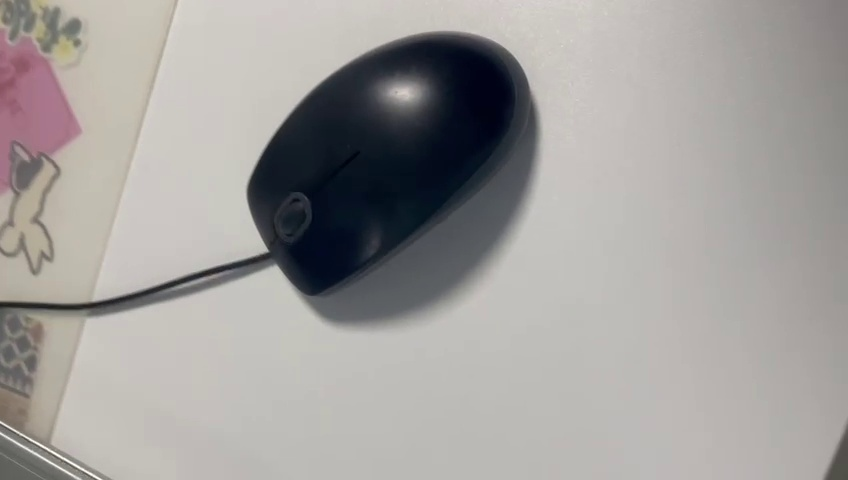objeto: (239, 29, 535, 290)
